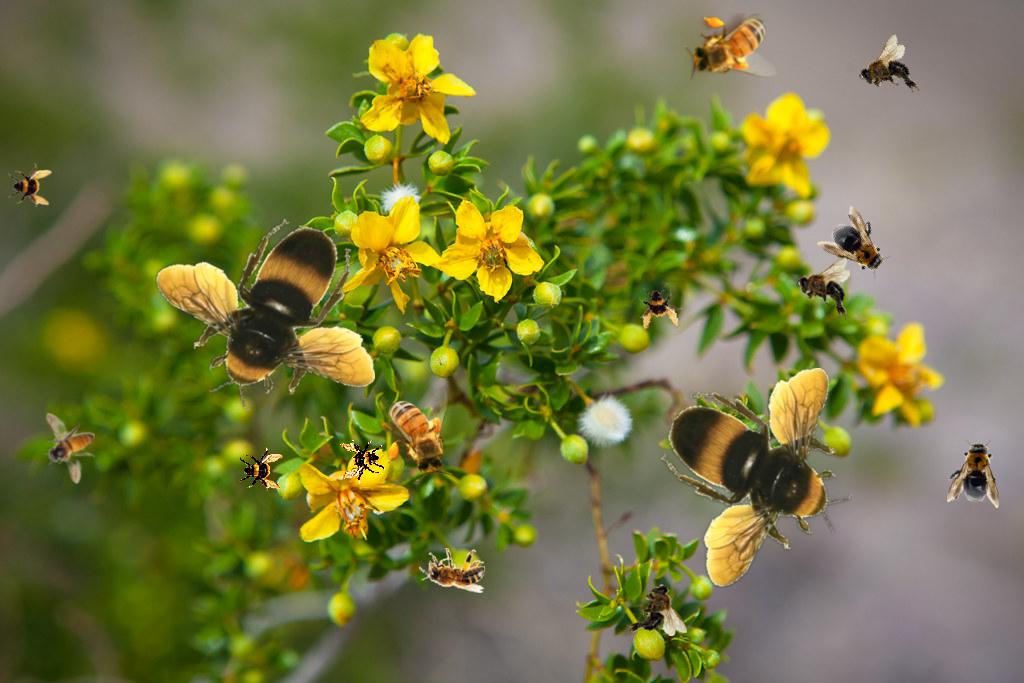Bee: (155, 219, 375, 410), (661, 368, 852, 588), (816, 204, 902, 288), (685, 13, 778, 81), (384, 388, 452, 481), (849, 32, 924, 112), (946, 436, 1004, 508), (45, 413, 95, 484), (625, 583, 687, 636), (797, 258, 850, 320), (419, 548, 485, 593), (634, 281, 686, 333), (337, 436, 387, 486), (239, 447, 283, 491), (8, 163, 52, 207)
